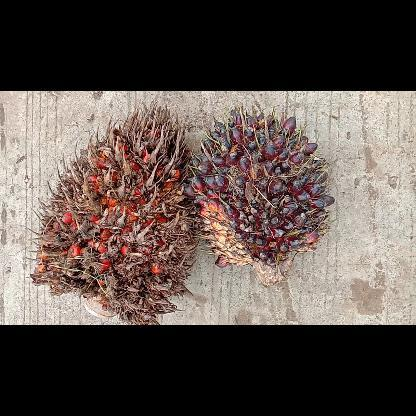TBS mentah: (185, 101, 335, 286)
Terlalu masak: (29, 100, 196, 324)
